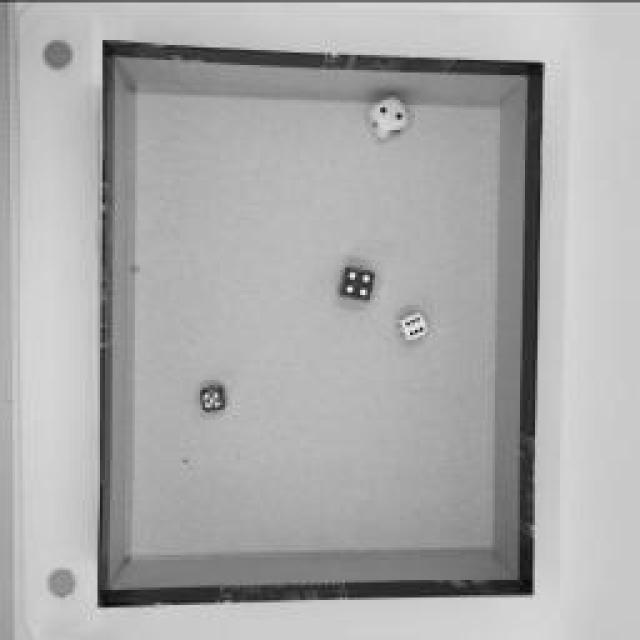dice_2: (361, 98, 411, 142)
dice_4: (335, 260, 377, 302)
dice_5: (200, 384, 225, 411)
dice_6: (395, 310, 427, 342)
